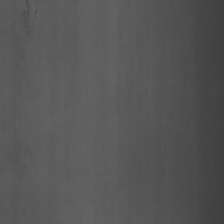water_spot: (19, 4, 41, 42)
